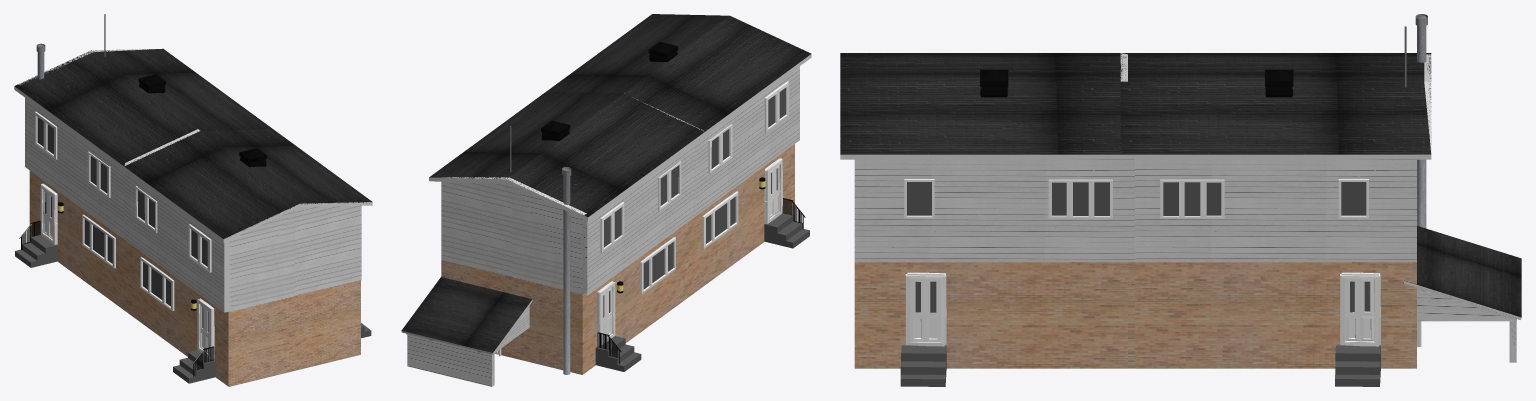
Rendered from House 4.fbx.
3 renders of one model, left to right at view 1: azimuth 30°, elevation 25°; view 2: azimuth 150°, elevation 25°; view 3: azimuth 270°, elevation 25°, orthographic. The views are drawn at different scales.
Visible parts, largest first — view 1: Cube.015, Cube.011, Cube.025, Cube, Cube.023, Cube.029, Cube.009, Cube.028, Plane, Plane.001, Cube.017; view 2: Cube.011, Cube.025, Cube, Cube.002, Cube.009, Cube.023, Cube.007, Cube.015, Plane.001, Plane, Cube.006, Cylinder.008 (+2 smaller); view 3: Cube.011, Cube, Cube.025, Cube.015, Cube.004, Cube.018, Plane, Cube.002, Plane.001, Cube.013, Cylinder.008.
Part boxes in pixels (left/top/right/bottom): Cube.015: left=113, top=159, right=372, bottom=386; Cube.011: left=14, top=48, right=272, bottom=166; Cube.025: left=124, top=129, right=372, bottom=238; Cube: left=14, top=49, right=200, bottom=315; Cube.023: left=124, top=170, right=224, bottom=312; Cube.029: left=295, top=205, right=361, bottom=295; Cube.009: left=25, top=98, right=124, bottom=238; Cube.028: left=229, top=209, right=295, bottom=311; Plane: left=15, top=74, right=371, bottom=338; Plane.001: left=135, top=148, right=266, bottom=383; Cube.017: left=224, top=240, right=229, bottom=312; Cube.011: left=429, top=91, right=705, bottom=216; Cube.025: left=546, top=14, right=811, bottom=131; Cube: left=429, top=93, right=703, bottom=374; Cube.002: left=401, top=277, right=532, bottom=386; Cube.009: left=587, top=144, right=693, bottom=295; Cube.023: left=693, top=66, right=799, bottom=217; Cube.007: left=441, top=181, right=511, bottom=277; Cube.015: left=688, top=54, right=811, bottom=296; Plane.001: left=648, top=41, right=809, bottom=248; Plane: left=494, top=120, right=681, bottom=371; Cube.006: left=512, top=186, right=582, bottom=294; Cylinder.008: left=562, top=167, right=571, bottom=374; Cube.011: left=1120, top=53, right=1431, bottom=154; Cube: left=1120, top=53, right=1431, bottom=368; Cube.025: left=840, top=53, right=1120, bottom=154; Cube.015: left=840, top=154, right=1149, bottom=368; Cube.004: left=1135, top=159, right=1416, bottom=262; Cube.018: left=854, top=159, right=1135, bottom=262; Plane: left=900, top=69, right=1421, bottom=386; Cube.002: left=1403, top=226, right=1521, bottom=362; Plane.001: left=904, top=69, right=1112, bottom=218; Cube.013: left=1417, top=288, right=1516, bottom=321; Cylinder.008: left=1415, top=14, right=1427, bottom=228.
Bounding box in the file's own units: 1431 × 1566 × 3208.
